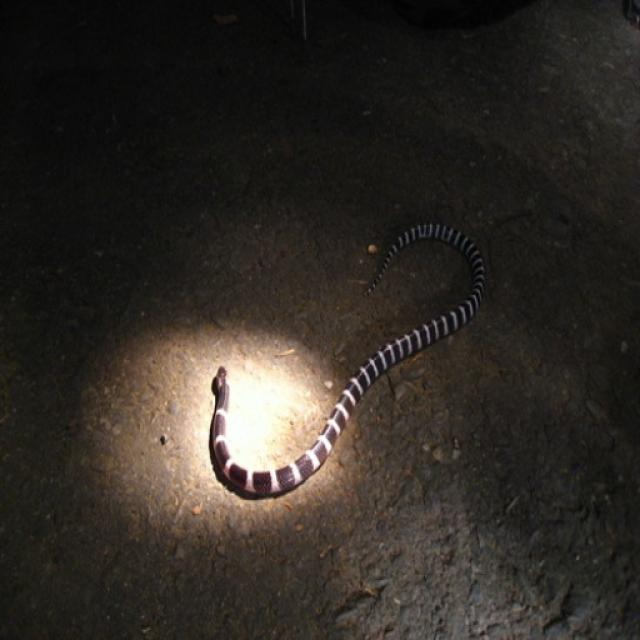snake: (188, 214, 497, 503)
